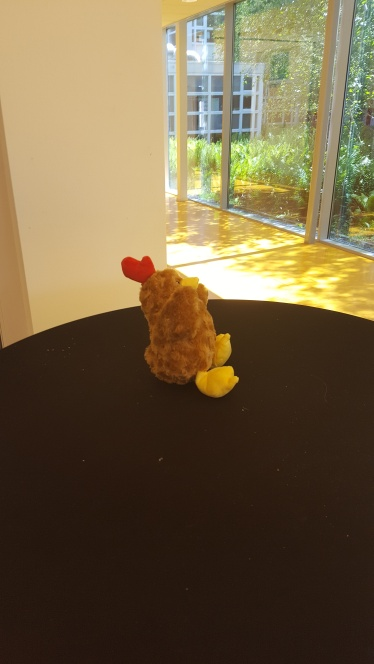chicken_left: (121, 254, 242, 397)
